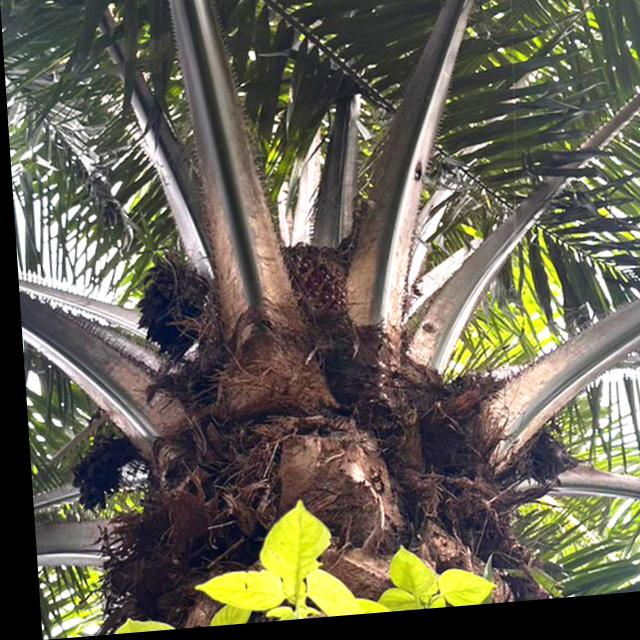ripe: (269, 231, 364, 350)
